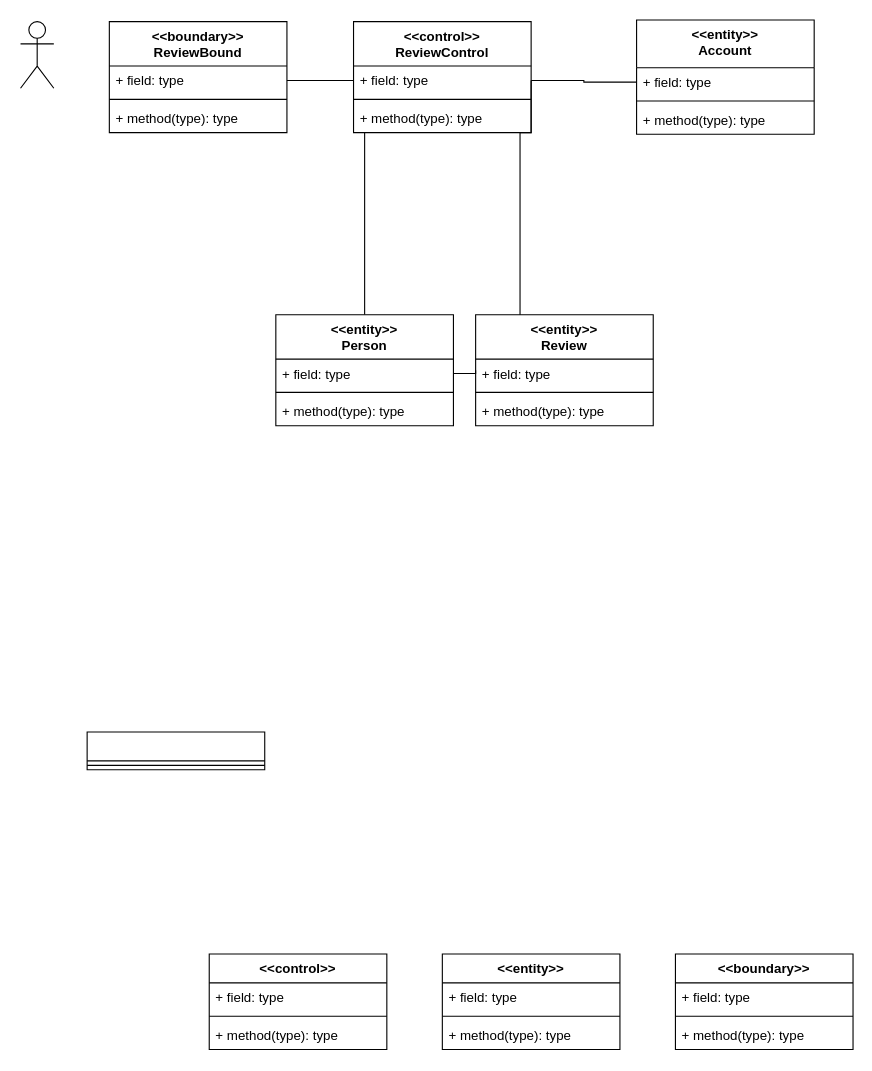
The diagram is 872 pixels wide and 1071 high, and some of its shapes have lost their labels. The box of each missing label's shape, as (x1, y1, x2, y2) in pixels:
Bean: (86, 731, 265, 770)
Guest: (19, 21, 54, 88)
